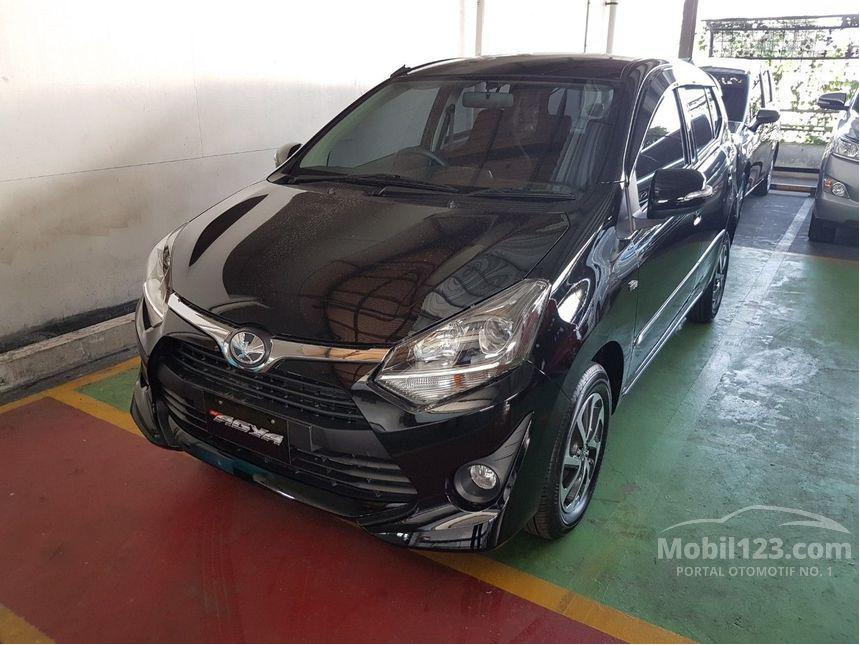mobil: (100, 22, 766, 567)
plat: (203, 399, 305, 474)
